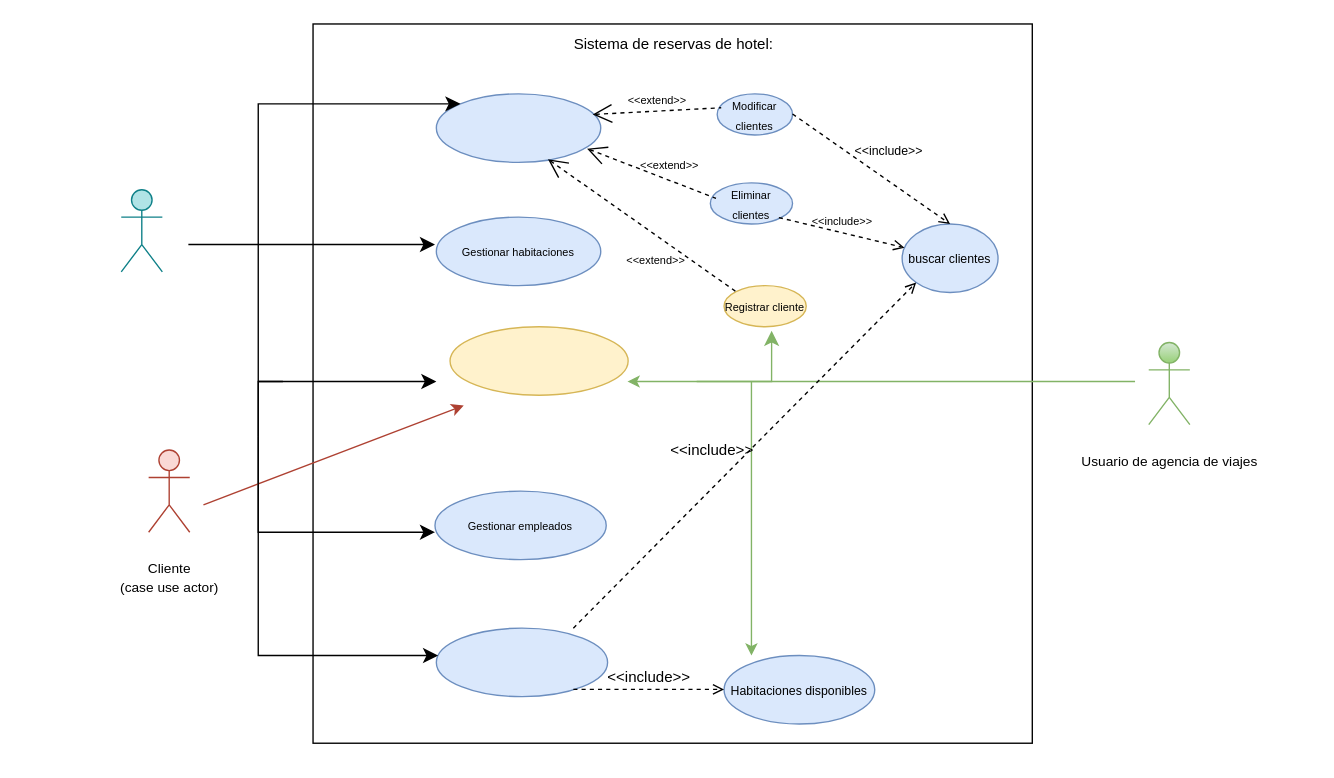
This 1334x778 diagram has some shape labels left out. Each missing label, with the centre of its shape:
Gestionar clientes.: point (518, 127)
Gestionar reserva la habitación: point (538, 360)
Registros del hospedaje: point (521, 662)
Usuario de hotel (Gestor de reservas): point (141, 230)
